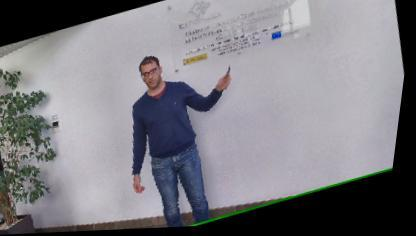knife: (218, 63, 240, 94)
